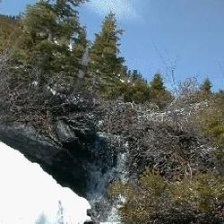neutral: (2, 2, 222, 221)
